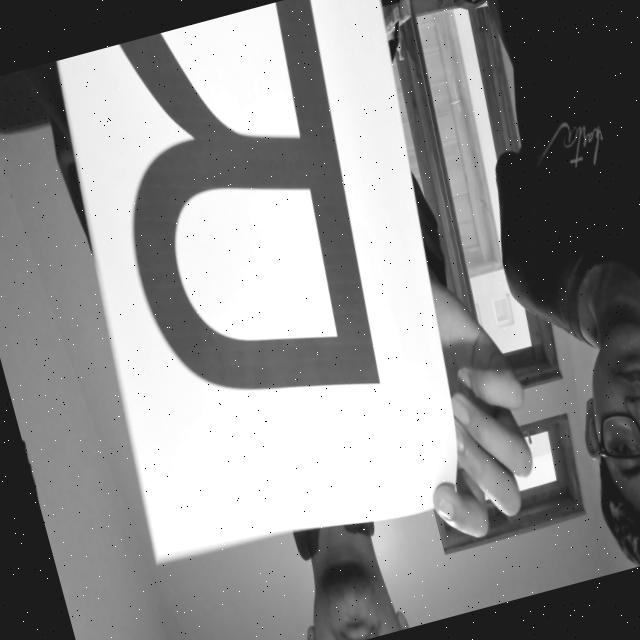r: (68, 0, 421, 467)
